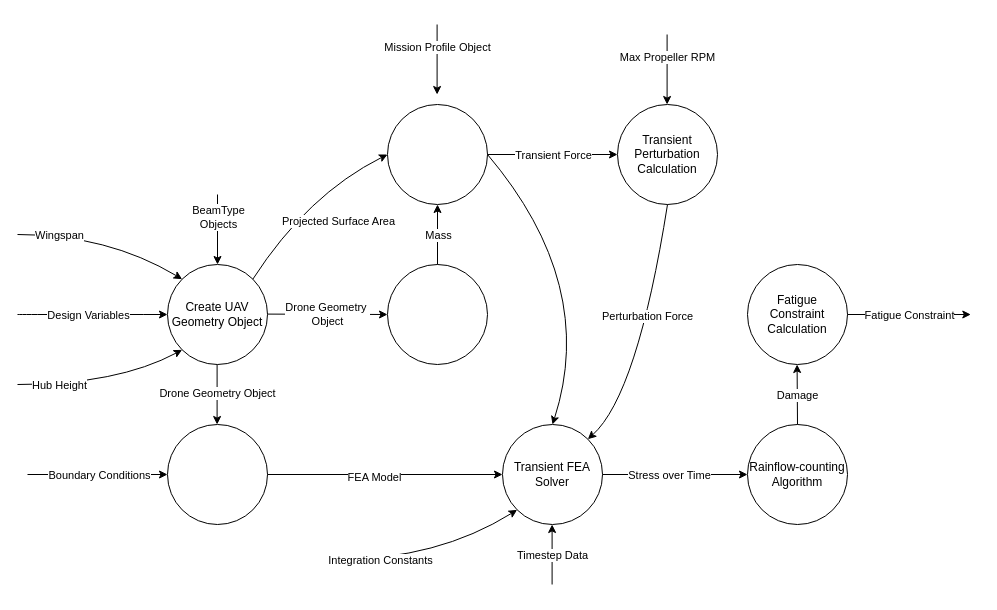
Some shapes in this 997 by 610 pixel diagram are drawn without their labels. The shapes that lost their labels are listed below. From the top down, each one's centre as x and y in pixels, then its label:
the point at 437,154: Transient Force Calculation
the point at 437,314: Drone Mass Calculation
the point at 217,474: Generate FEA Segment Model
